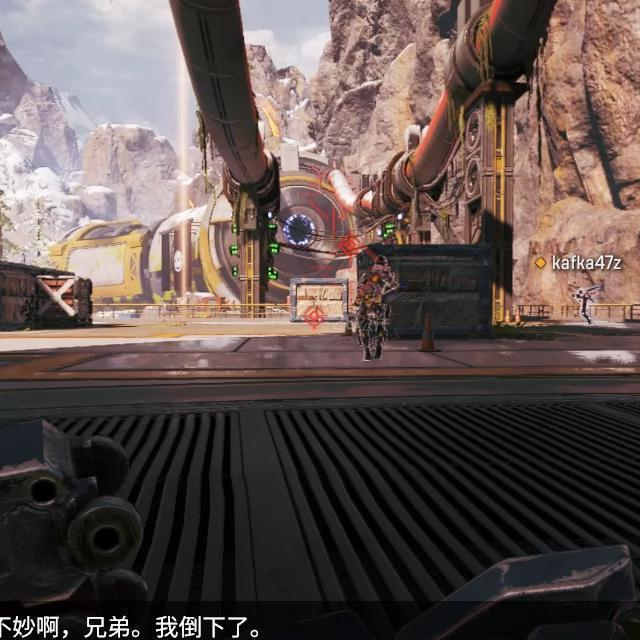avatar: (353, 253, 401, 365)
